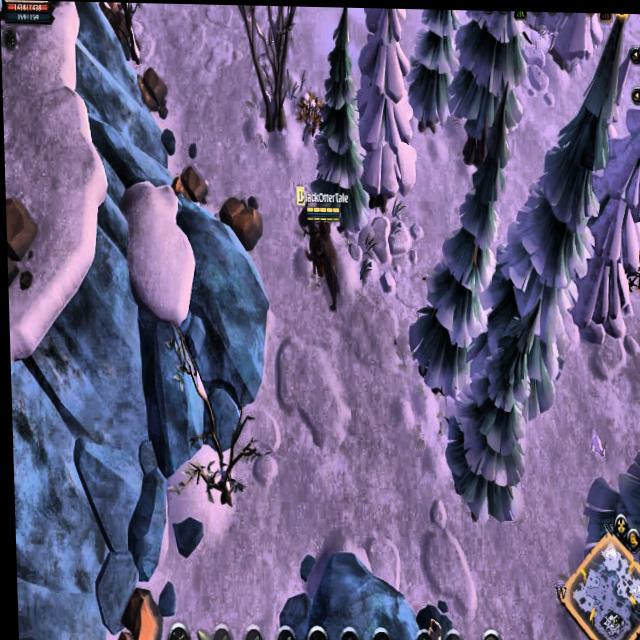limestone: (5, 192, 37, 305), (100, 584, 161, 640), (216, 190, 263, 251), (166, 160, 209, 210), (133, 64, 170, 114)
